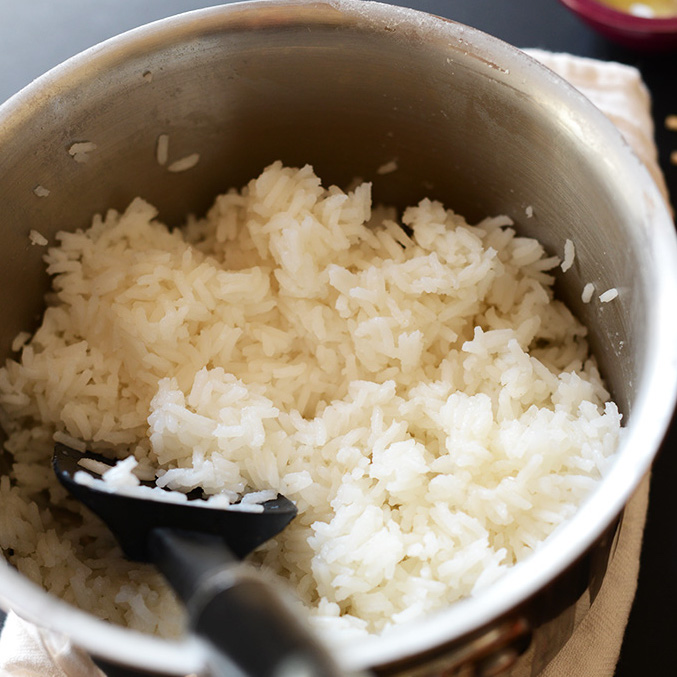rice: (28, 165, 597, 539)
